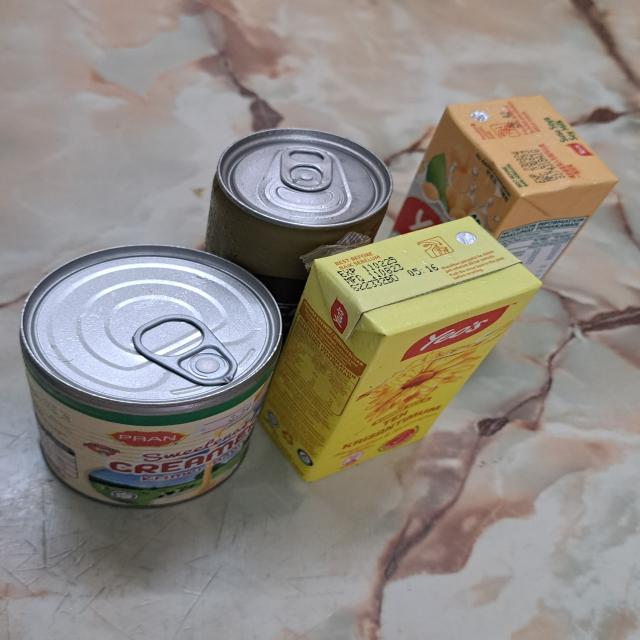can: (18, 242, 281, 510), (207, 130, 394, 284), (278, 144, 335, 192)
drink carton: (257, 214, 546, 482), (396, 97, 616, 283)
pop tab: (130, 311, 238, 388)
